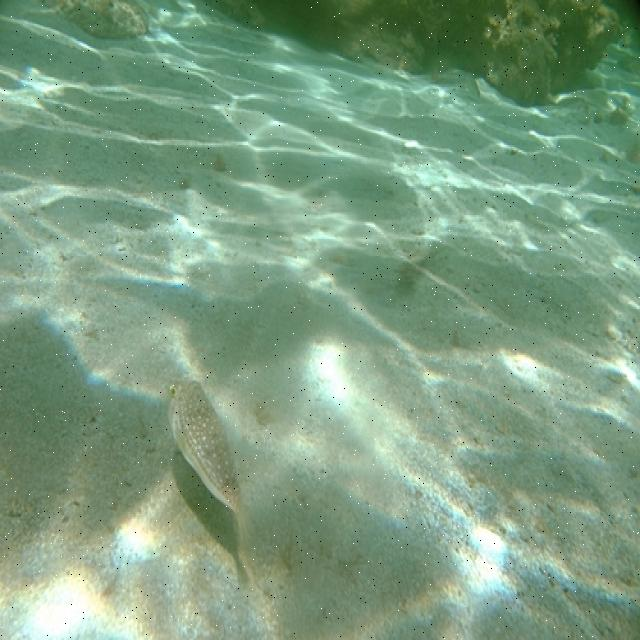Balik: (169, 381, 240, 515)
